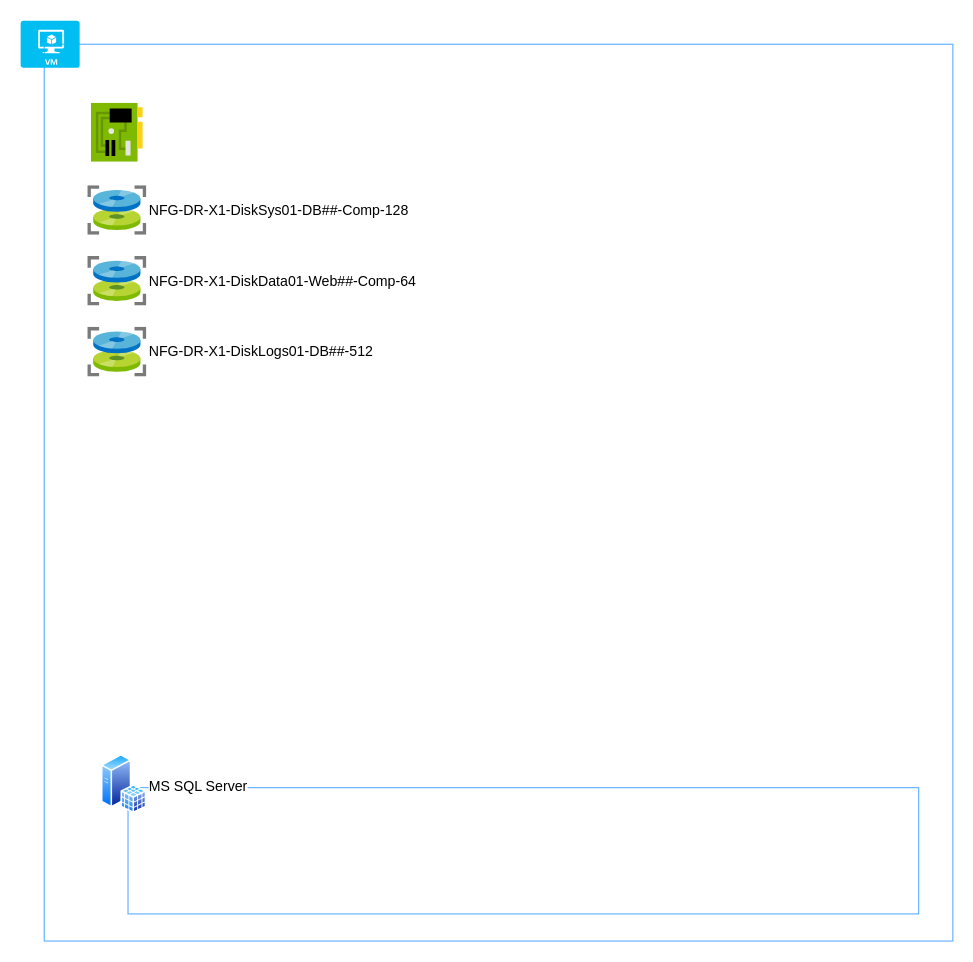
Image size: 973x962. Some labels were removed from this diagram. The centre of each missing label's shape, as x and y in pixels:
"NFG-DR-X1-NIC-DB##" goes at point 117,132.
"NFG-DR-X1-VMW-DB##" goes at point 49,43.
